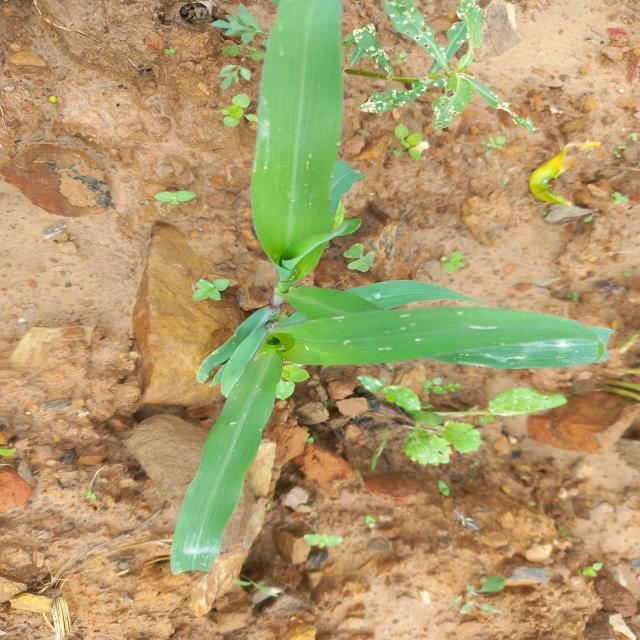maize: (109, 5, 634, 560)
weed: (329, 0, 545, 141), (341, 368, 572, 472), (527, 143, 596, 220), (434, 571, 512, 623), (147, 177, 217, 226), (285, 507, 366, 549), (218, 44, 264, 104), (331, 241, 400, 278), (190, 274, 235, 317), (219, 92, 257, 135), (418, 470, 457, 500), (432, 249, 475, 274), (578, 552, 611, 577), (226, 10, 256, 37)
